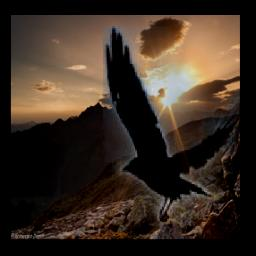Crow: (103, 26, 239, 224)
